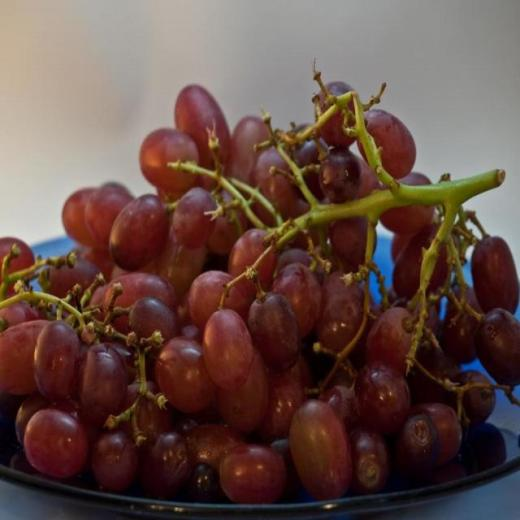Orange: (0, 80, 520, 500)
